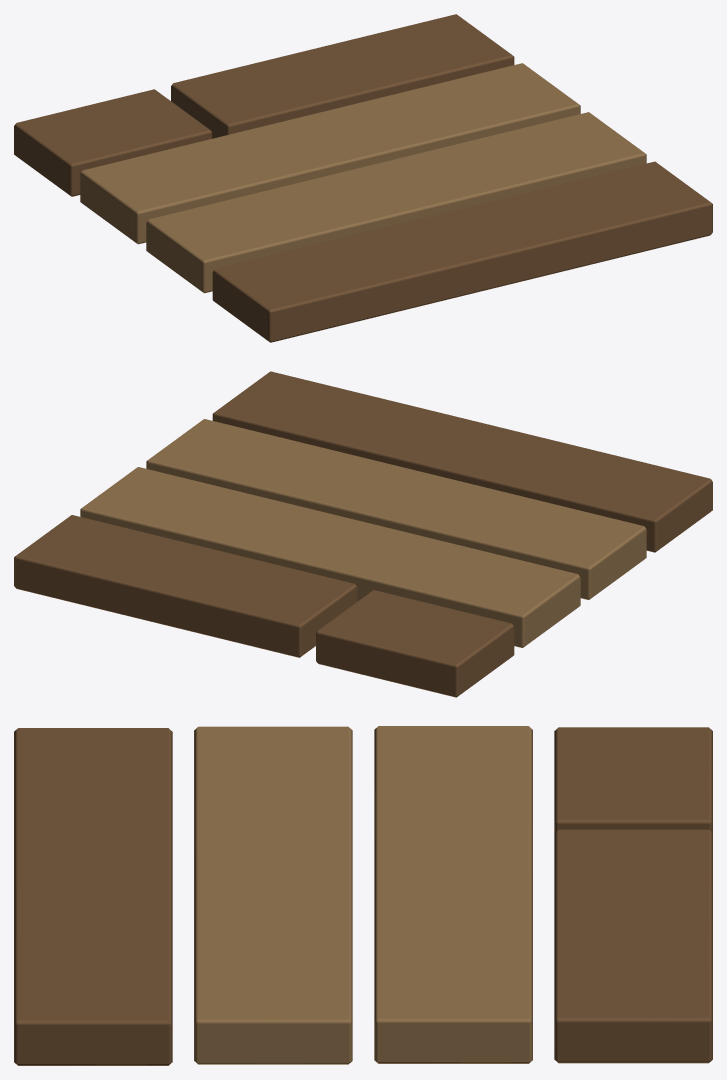
Rendered from railcar-planks-b.bc6d4132.glb.
3 views of the same model, one above another, from view 1: azimuth 30°, elevation 25°; view 2: azimuth 150°, elevation 25°; view 3: azimuth 270°, elevation 25° (orthographic). The views are drawn at different scales.
Parts seen in each view (by area): view 1: body; view 2: body; view 3: body.
Boxes of the visible parts, left/top/right/bottom form: body: left=14, top=14, right=712, bottom=342; body: left=14, top=371, right=712, bottom=697; body: left=14, top=726, right=712, bottom=1065.
Bounding box in the file's own units: 0.97 × 0.074 × 0.97.
